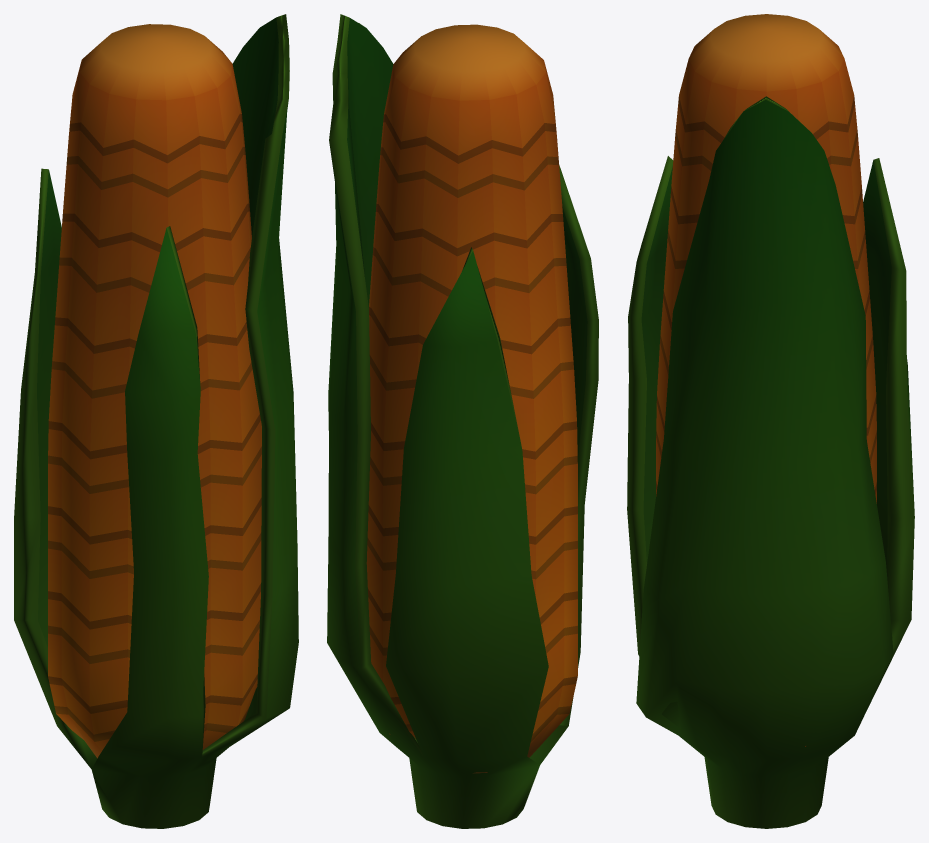
The model's file is Corn_Dashed.fbx.
The picture shows the model from 3 angles, left to right: view 1: azimuth 30°, elevation 25°; view 2: azimuth 150°, elevation 25°; view 3: azimuth 270°, elevation 25°; orthographic projection.
Parts seen in each view (by area): view 1: Corn_Dashed; view 2: Corn_Dashed; view 3: Corn_Dashed.
Boxes of the visible parts, x1,y1,x2,y2 form: Corn_Dashed: (14, 14, 298, 828); Corn_Dashed: (327, 14, 598, 828); Corn_Dashed: (627, 14, 914, 828).
Size of the model in its own units: 13.79 by 42.11 by 14.13.
